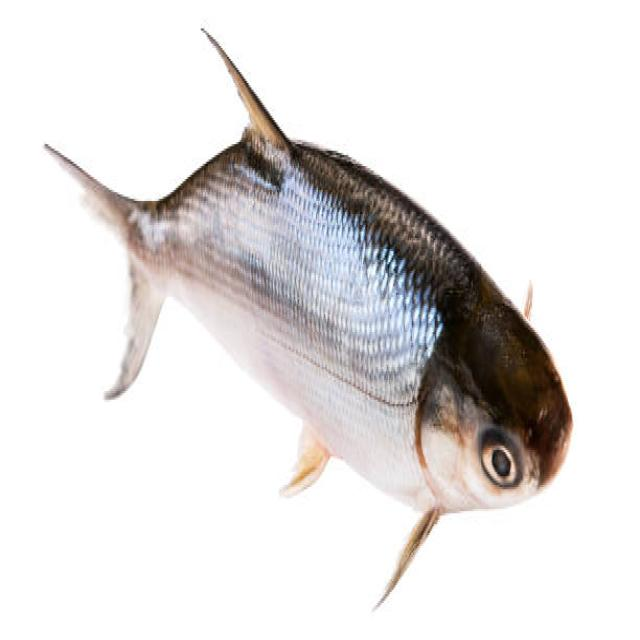Bangus: (19, 17, 590, 600)
